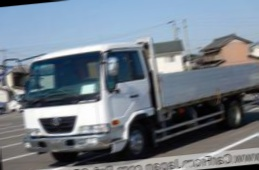truck: (16, 23, 259, 169)
